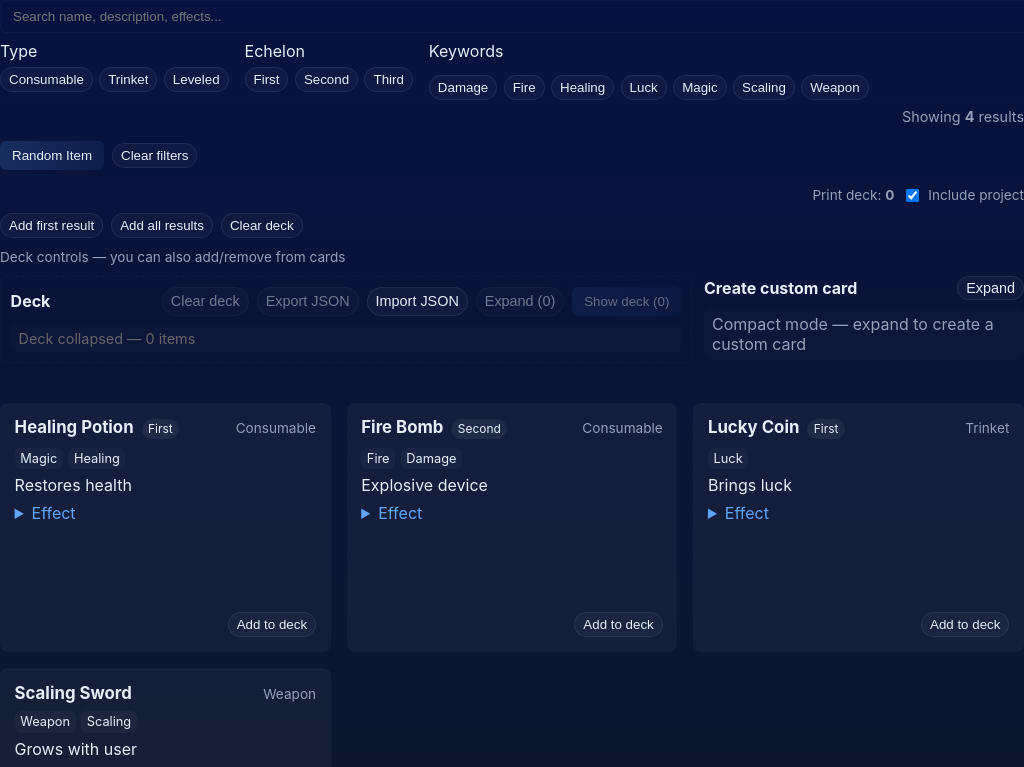
it: ItemList › filters items by echelon
Click the button "First" at (267, 79), box [245, 67, 288, 92]
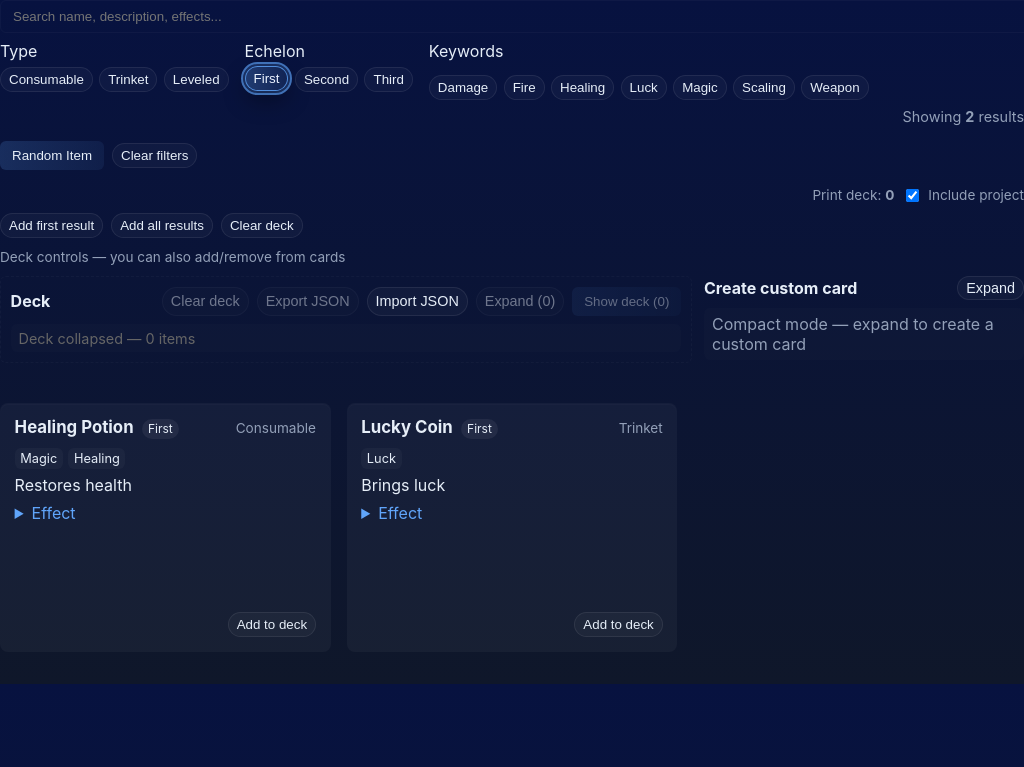
Expected: the heading "Healing Potion" is shown, [15, 417, 134, 437]
Expected: the heading "Fire Bomb" is gone
